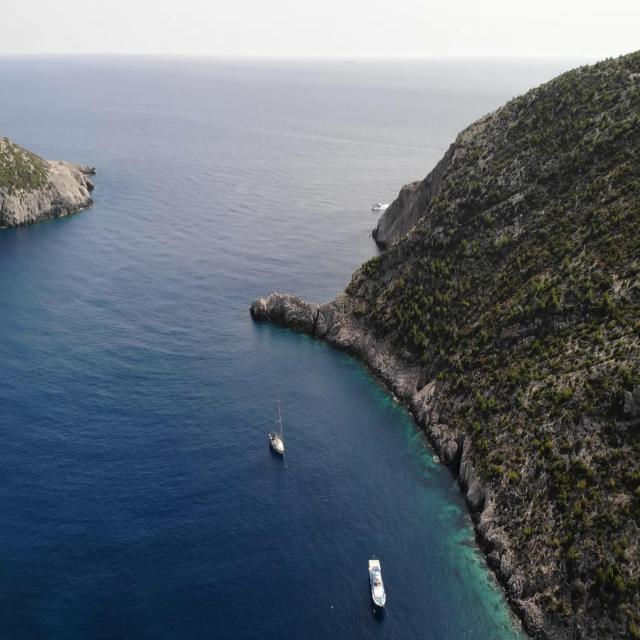boat: (366, 553, 387, 607)
sailboat: (268, 386, 286, 458)
